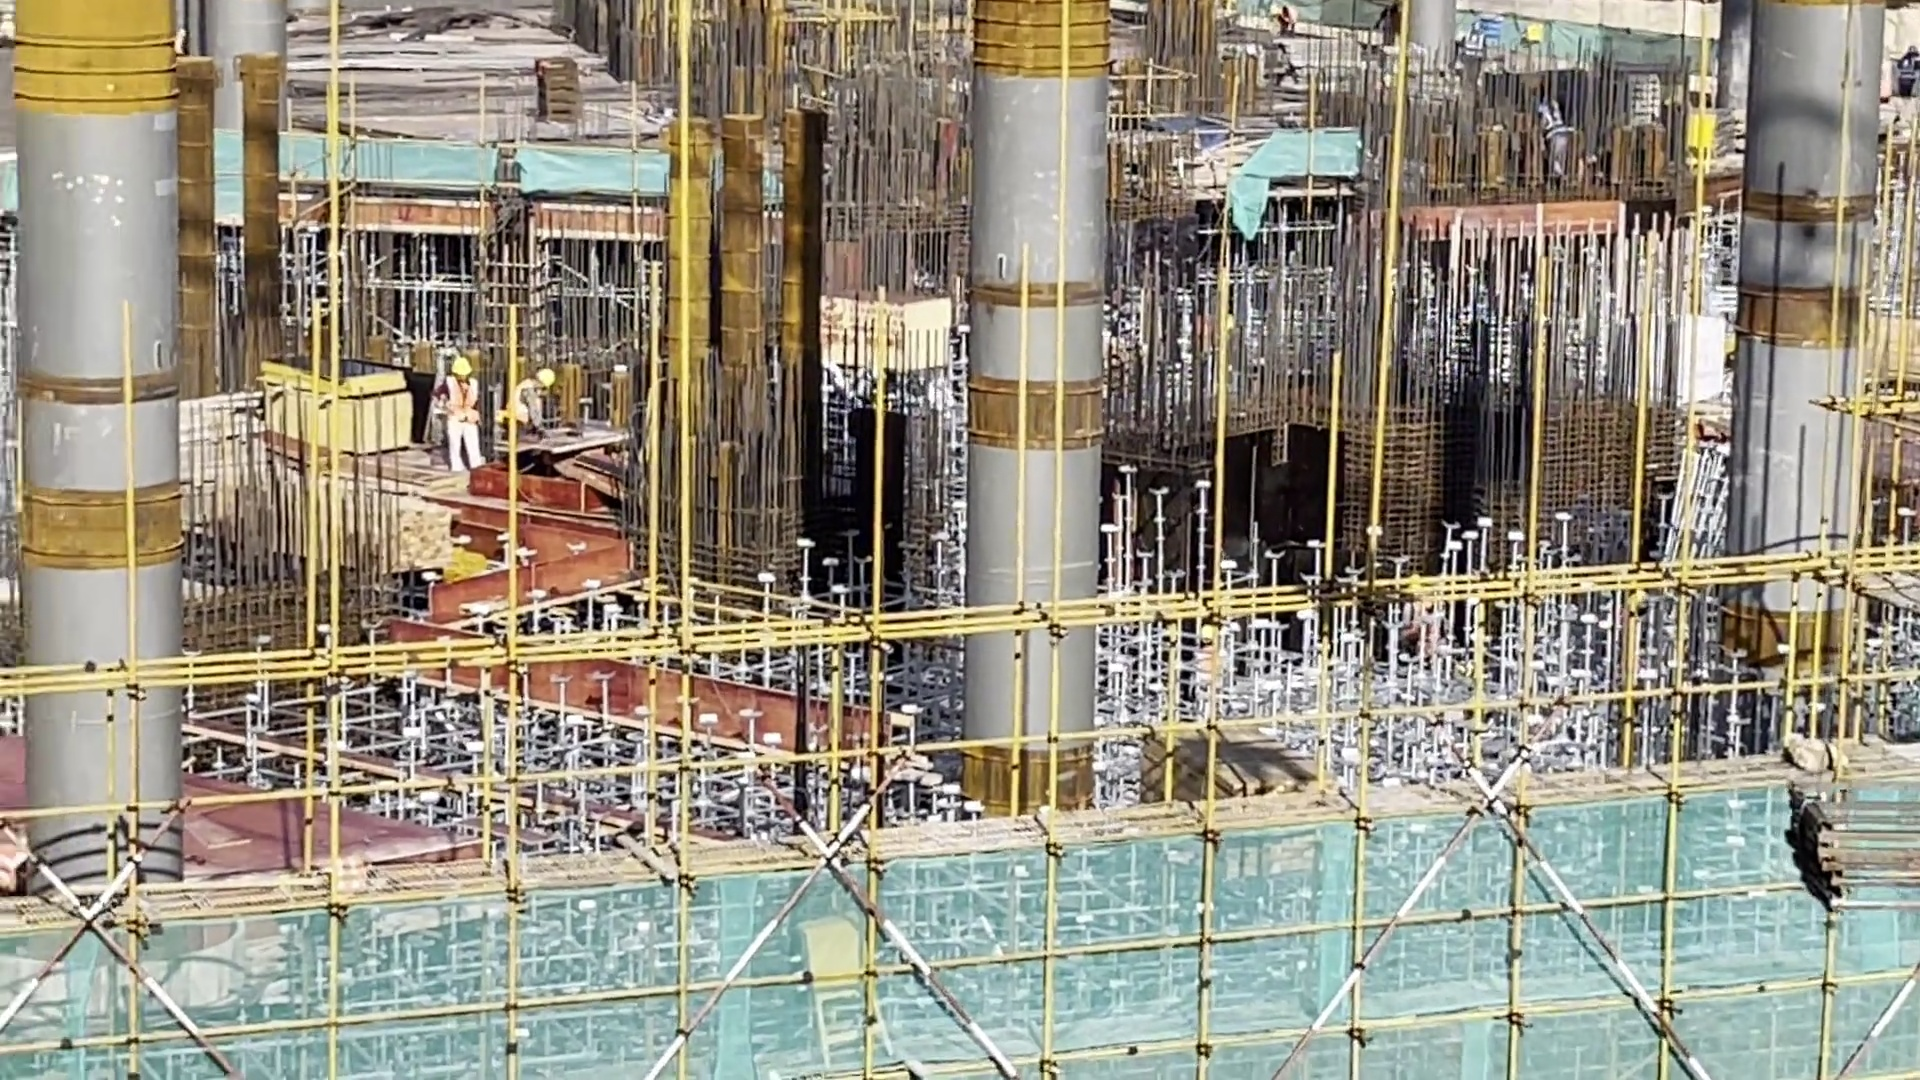board: (1143, 726, 1325, 826), (261, 354, 415, 459)
ebox: (801, 909, 898, 1078)
helmet: (533, 364, 555, 390), (452, 357, 473, 380)
person: (431, 358, 490, 474), (500, 370, 563, 444), (1537, 90, 1576, 197), (1891, 33, 1920, 112)
vest: (505, 379, 544, 434), (445, 376, 477, 426), (1533, 99, 1570, 141)
